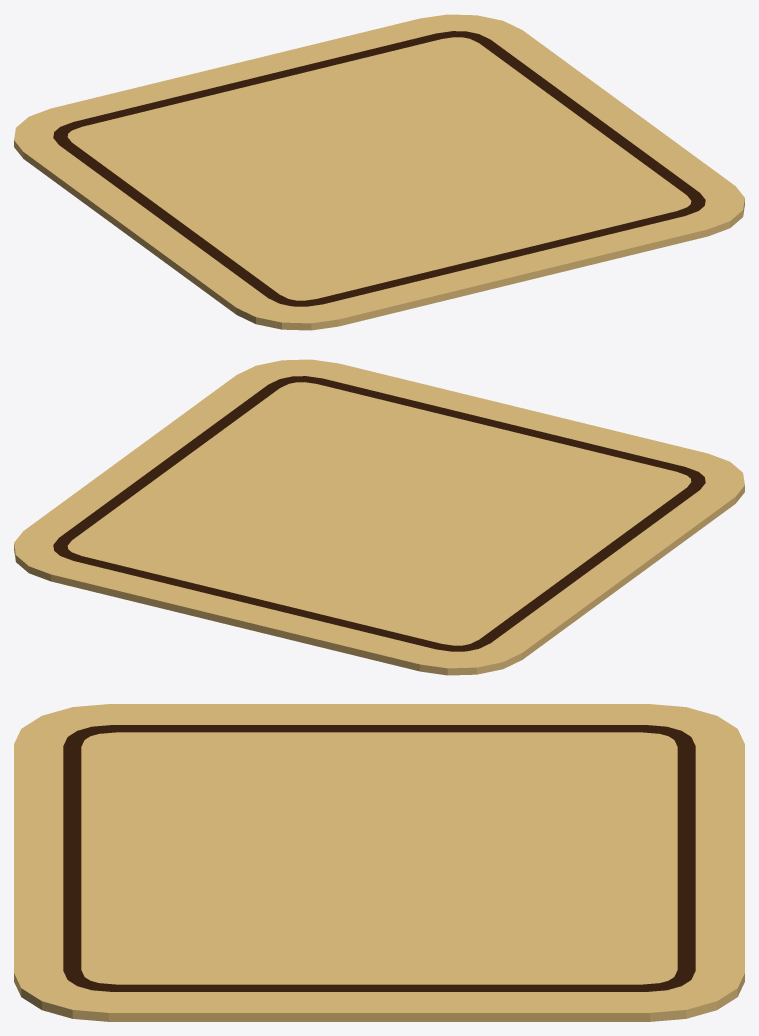
The model's file is Coaster.fbx.
3 renders of one model, top to bottom at view 1: azimuth 30°, elevation 25°; view 2: azimuth 150°, elevation 25°; view 3: azimuth 270°, elevation 25°, orthographic. The views are drawn at different scales.
Visible parts, largest first — view 1: Plane; view 2: Plane; view 3: Plane.
Boxes of the visible parts, x1,y1,x2,y2 form: Plane: (14, 14, 744, 330); Plane: (14, 359, 744, 675); Plane: (14, 704, 744, 1021).
Bounding box in the file's own units: 200 × 2.71 × 200.
